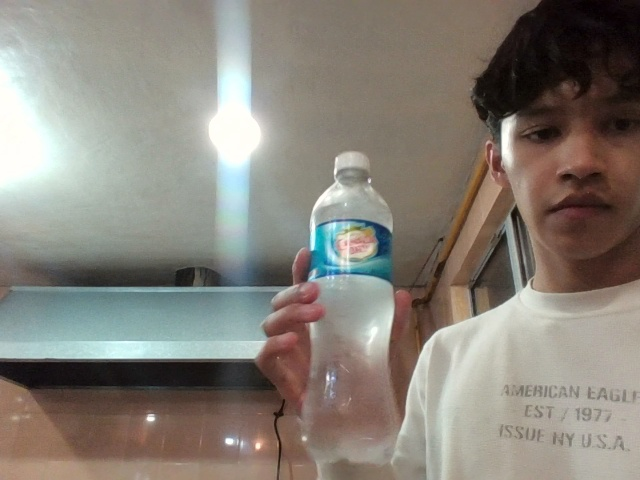botella: (263, 137, 445, 476)
